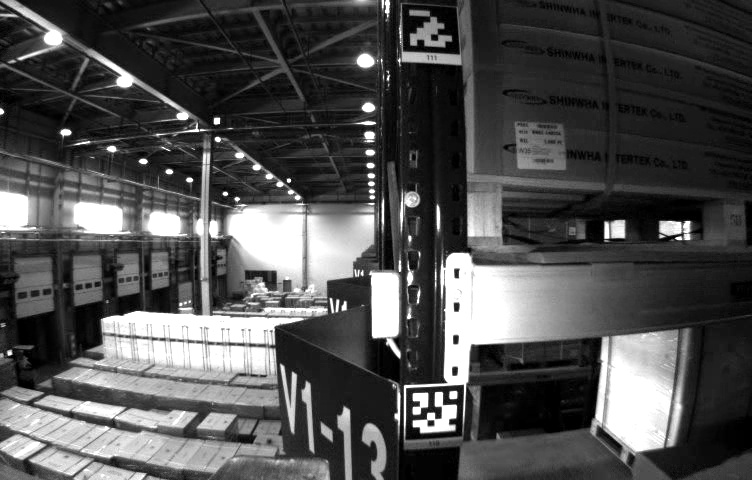True Barcode: (515, 121, 567, 170)
